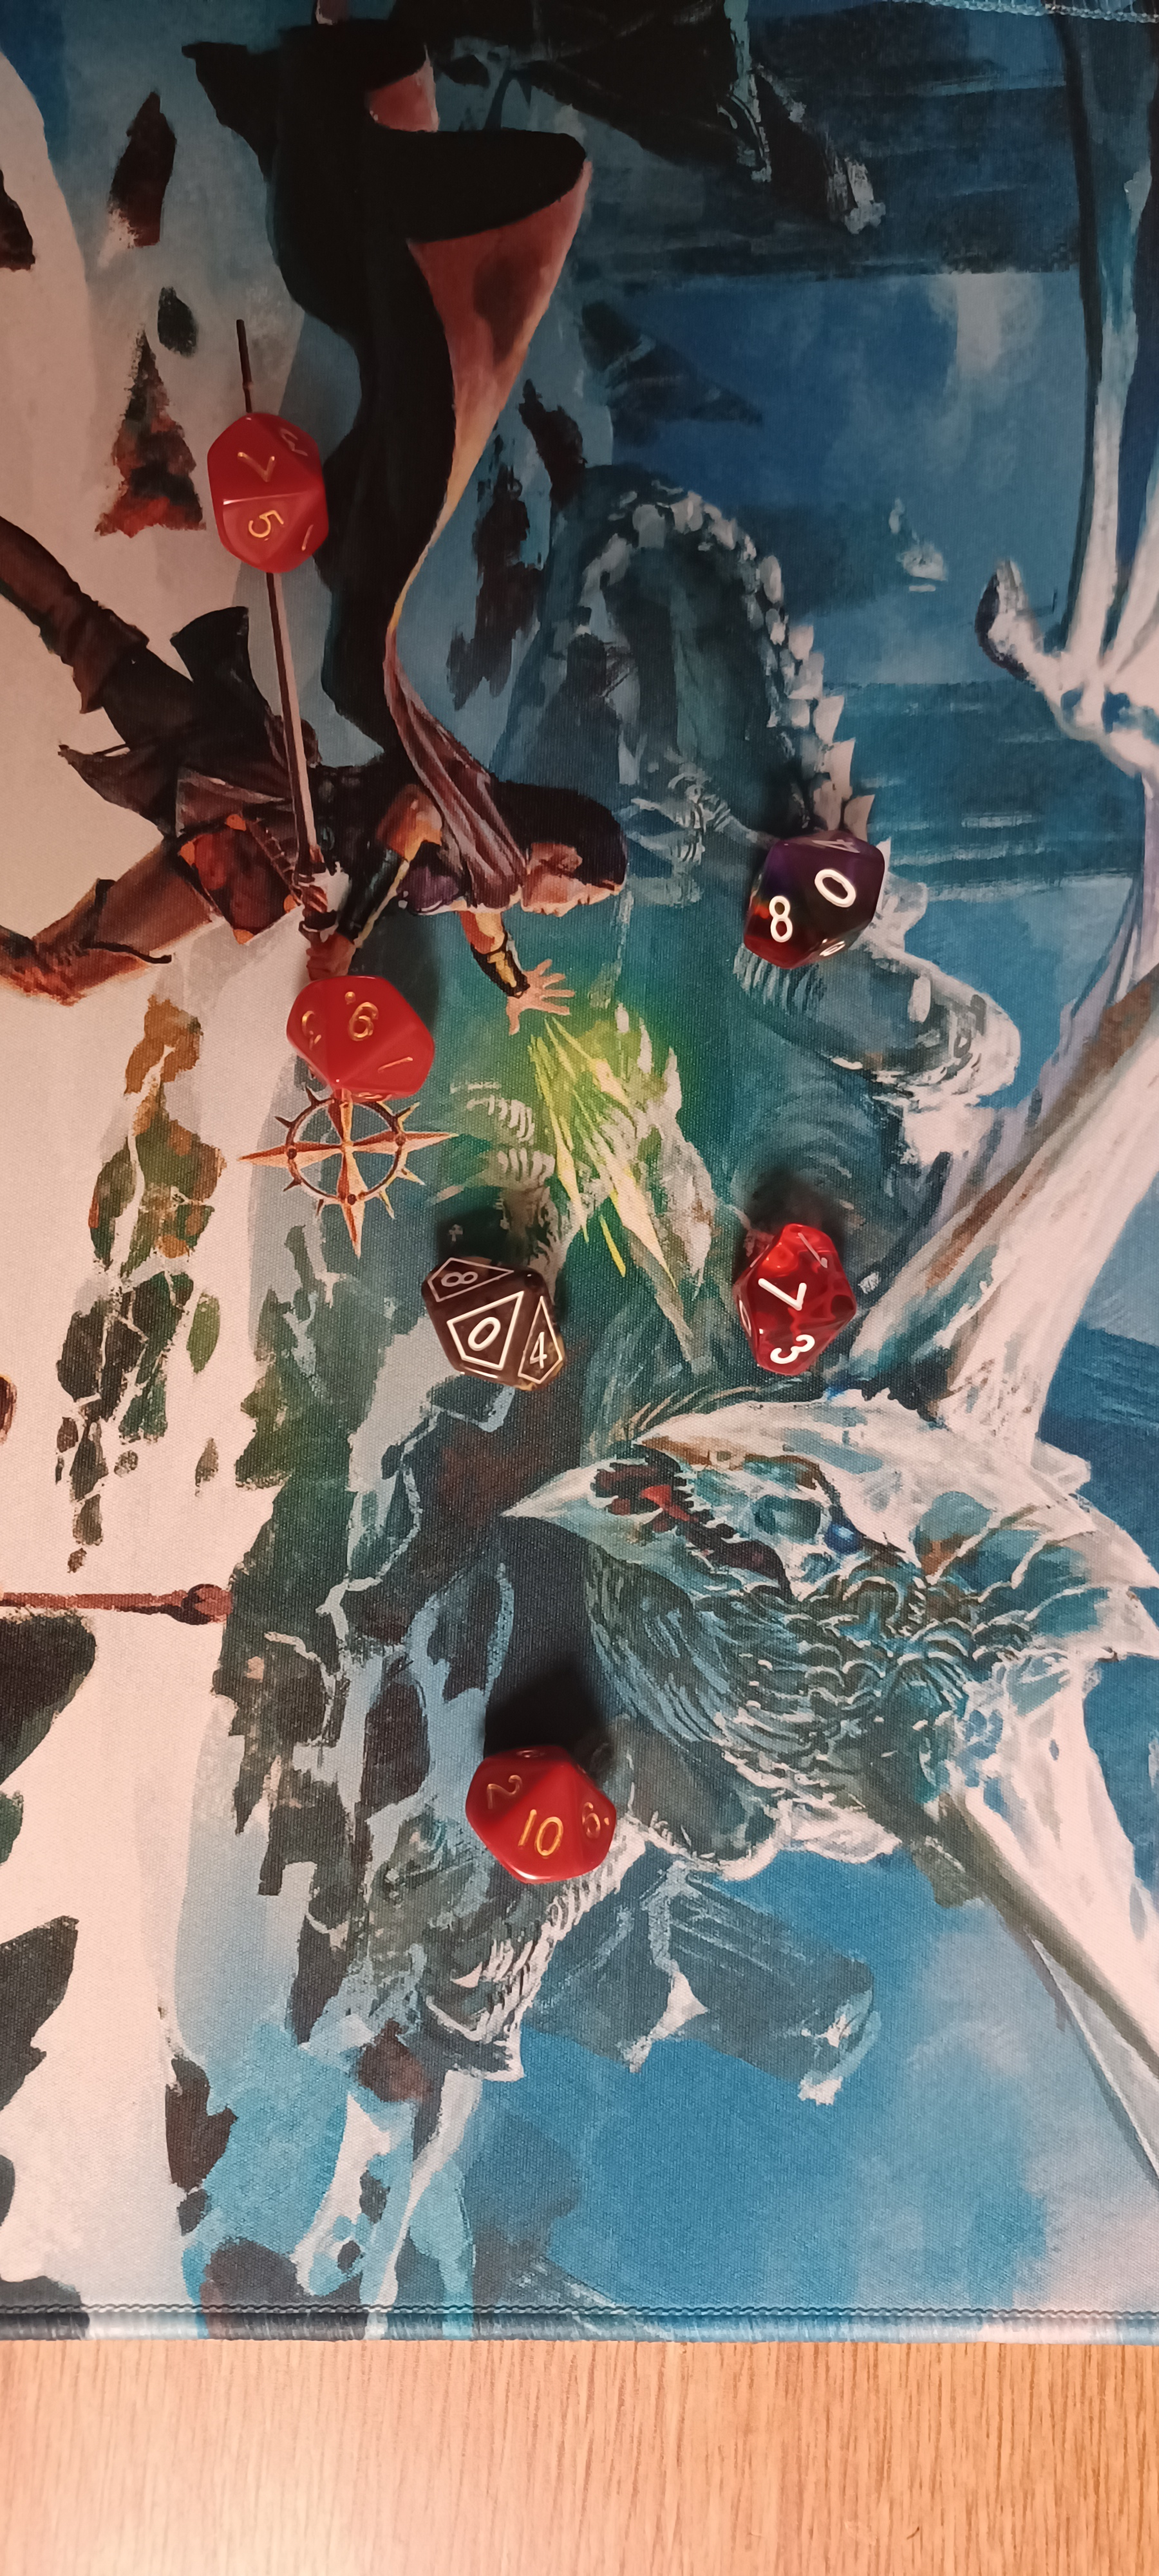nine: (264, 948, 451, 1150)
seven: (673, 1173, 896, 1408), (149, 391, 373, 577)
ten: (438, 1713, 673, 1932)
zero: (696, 805, 932, 1030), (368, 1221, 602, 1405)
